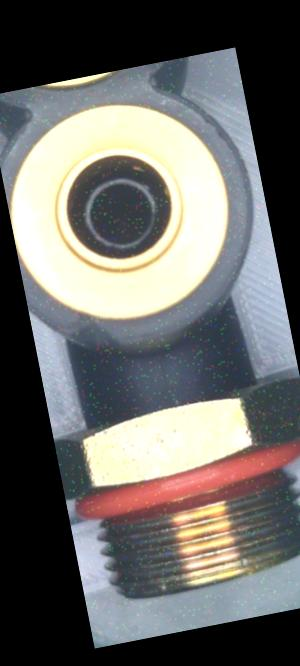bump: (66, 312, 122, 358)
joint line: (150, 347, 178, 408)
